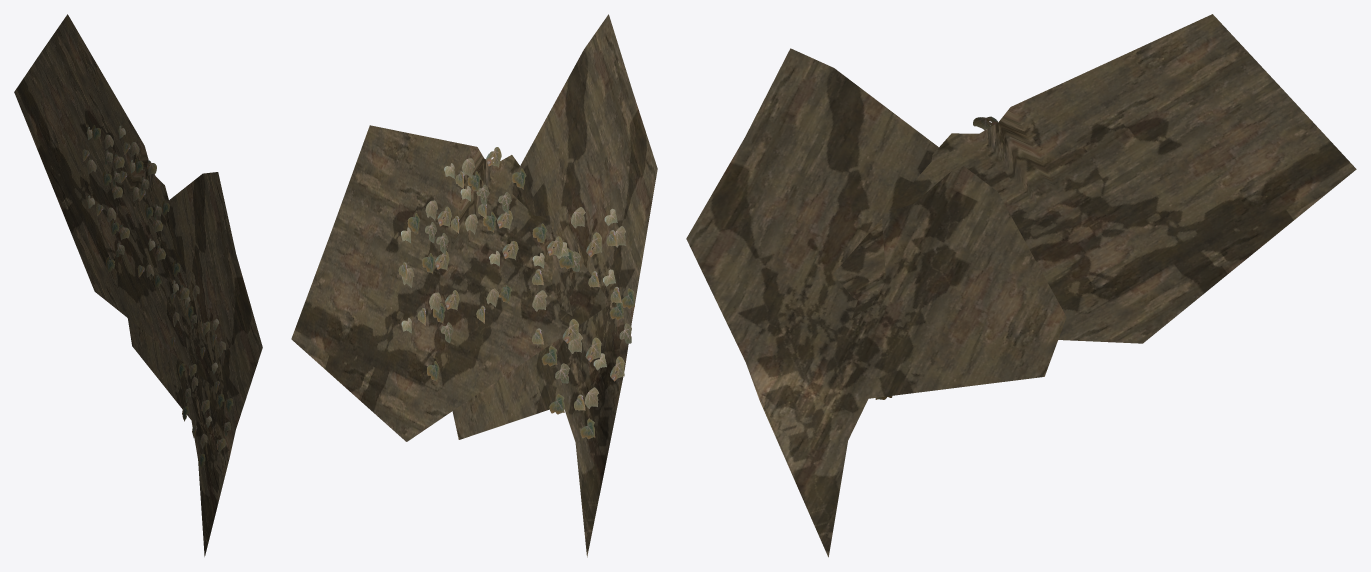
The model's file is SM_Ivy_6.fbx.
3 views of the same model, side by side, from view 1: azimuth 30°, elevation 25°; view 2: azimuth 150°, elevation 25°; view 3: azimuth 270°, elevation 25° (orthographic). The views are drawn at different scales.
Parts seen in each view (by area): view 1: SM_Ivy_6_LOD0; view 2: SM_Ivy_6_LOD0; view 3: SM_Ivy_6_LOD0.
Boxes of the visible parts, x1,y1,x2,y2 form: SM_Ivy_6_LOD0: (14,14,262,556); SM_Ivy_6_LOD0: (291,14,657,557); SM_Ivy_6_LOD0: (686,14,1356,557).
Size of the model in its own units: 15.77 by 311 by 282.
